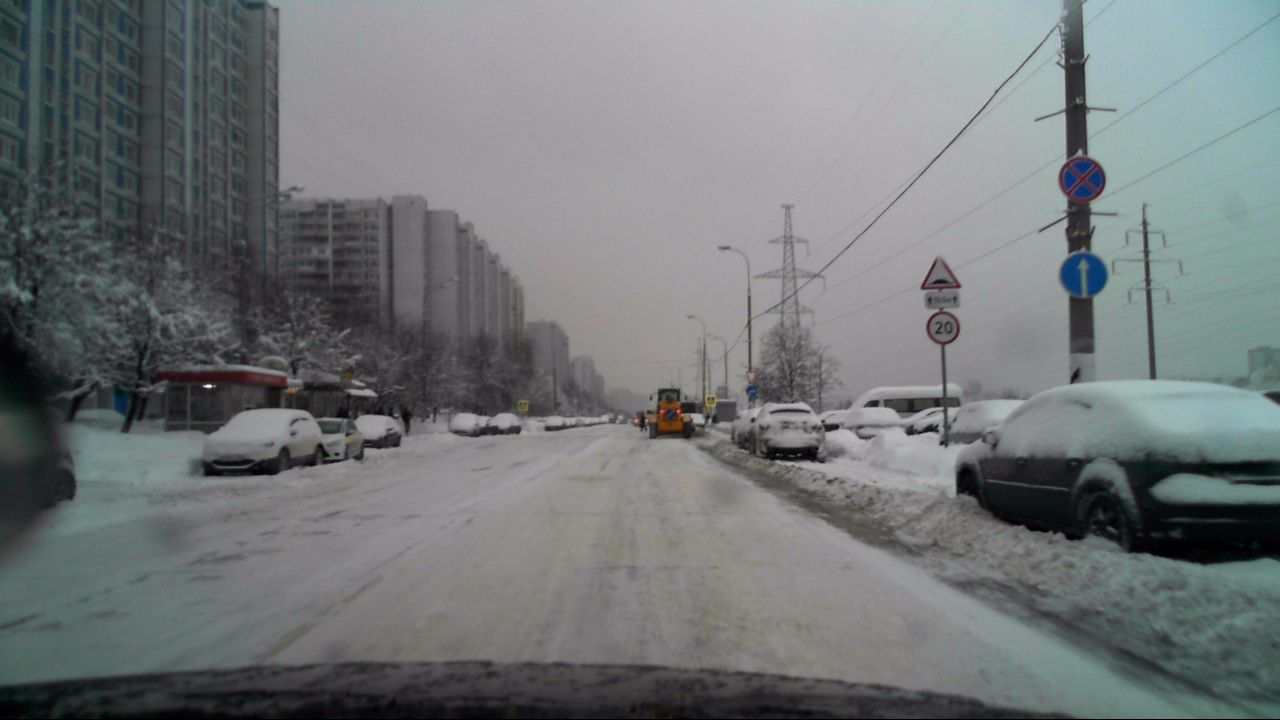No Parking: (1058, 154, 1107, 203)
